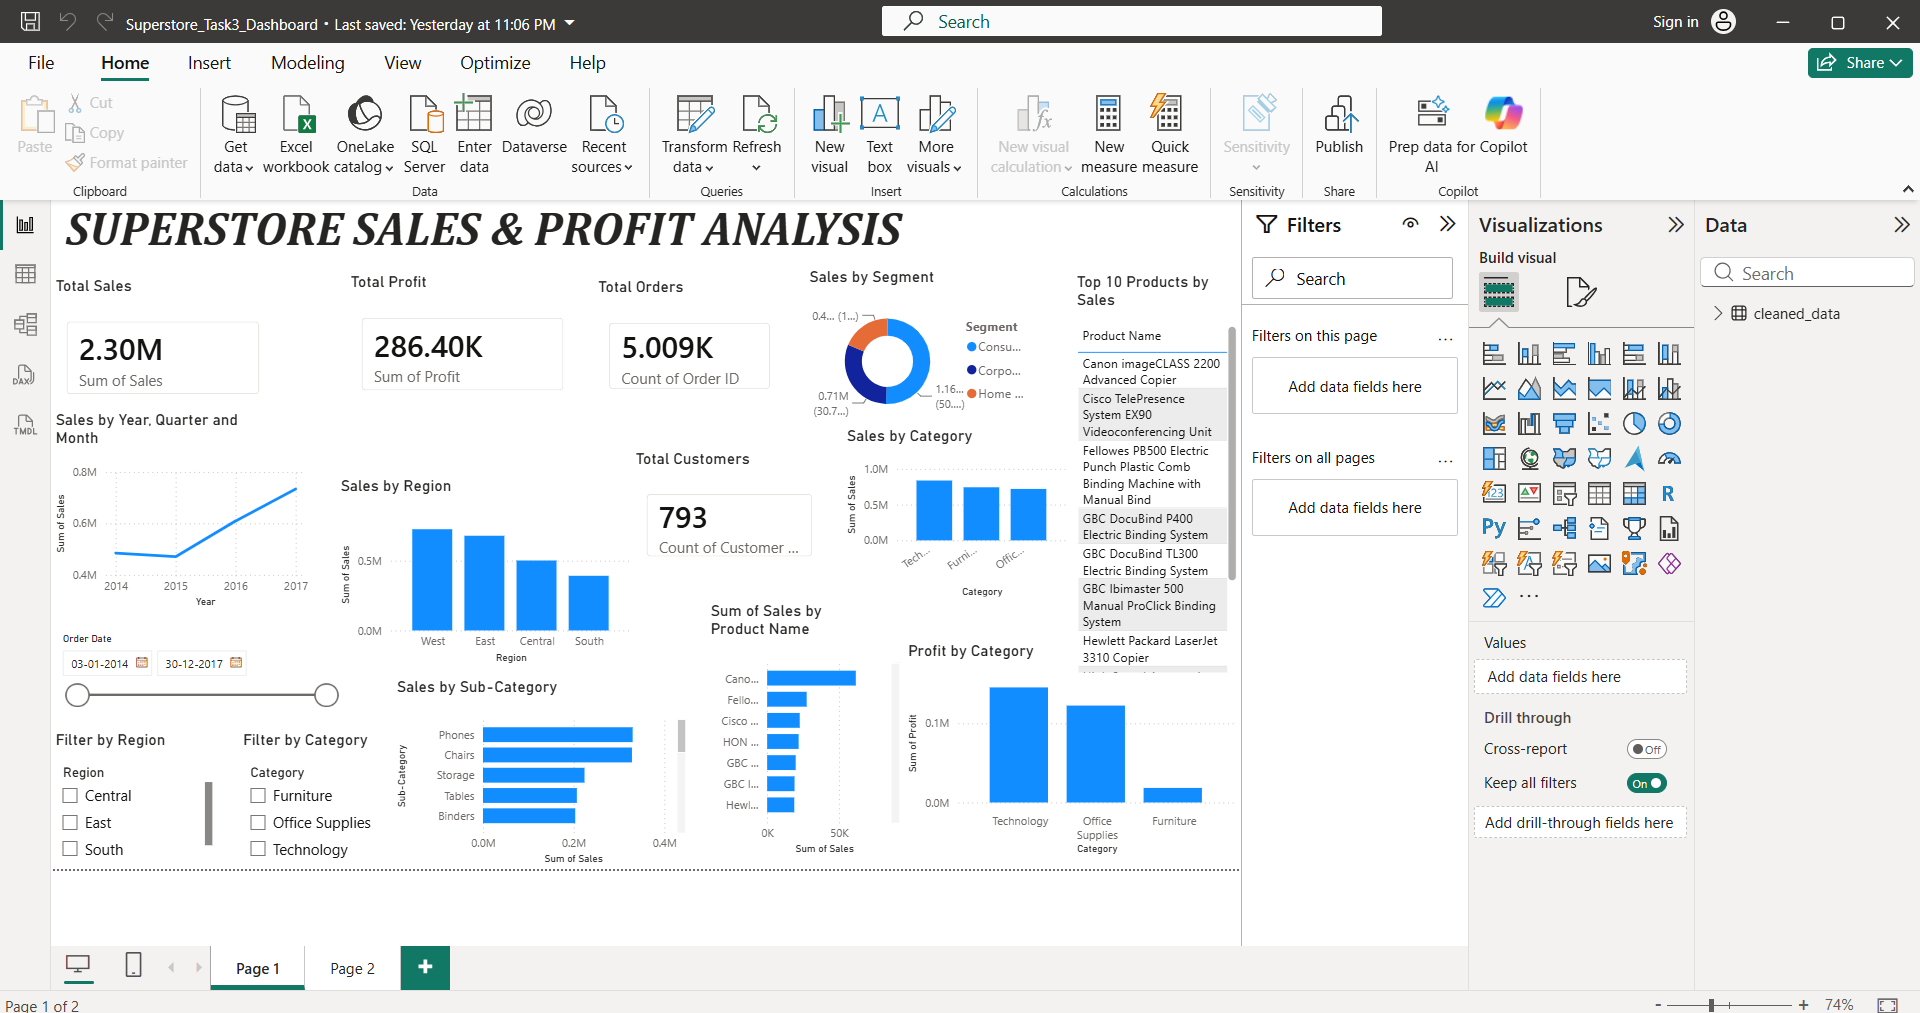

The dashboard page shown, as its layout file describes it:
{"tool":"powerbi","page":{"name":"Page 1","canvas":[1280,720],"ordinal":0},"visuals":[{"type":"cardVisual","title":"Total Sales","fields":{"Data":["Sum(cleaned_data.Sales)"]},"box":[0,81.4,241.4,144.3],"z":0},{"type":"cardVisual","title":"Total Profit","fields":{"Data":["Sum(cleaned_data.Profit)"]},"box":[317.1,78.6,251.4,144.3],"z":1000},{"type":"lineChart","title":"Sales by Year, Quarter and Month","fields":{"Y":["Sum(cleaned_data.Sales)"],"Category":["cleaned_data.Order Date.Variation.Date Hierarchy.Year","cleaned_data.Order Date.Variation.Date Hierarchy.Month"]},"box":[0,225.7,281.4,217.1],"z":2000},{"type":"clusteredColumnChart","title":"Sales by Region","fields":{"Category":["cleaned_data.Region"],"Y":["Sum(cleaned_data.Sales)"]},"box":[307.1,297.1,322.9,205.7],"z":3000},{"type":"clusteredColumnChart","title":" Sales by Category","fields":{"Category":["cleaned_data.Category"],"Y":["Sum(cleaned_data.Sales)"]},"box":[851.4,242.9,247.1,188.6],"z":4000},{"type":"clusteredColumnChart","title":"Profit by Category","fields":{"Category":["cleaned_data.Category"],"Y":["Sum(cleaned_data.Profit)"]},"box":[917.1,474.3,362.9,234.3],"z":5000},{"type":"clusteredBarChart","fields":{"Y":["Sum(cleaned_data.Sales)"],"Category":["cleaned_data.Product Name"]},"box":[704.3,431.4,212.9,277.1],"z":6000},{"type":"tableEx","title":"Top 10 Products by Sales","fields":{"Values":["cleaned_data.Product Name"]},"box":[1098.6,78.6,181.4,435.7],"z":7000},{"type":"clusteredBarChart","title":"Sales by Sub-Category","fields":{"Category":["cleaned_data.Sub-Category"],"Y":["Sum(cleaned_data.Sales)"]},"box":[367.1,514.3,320,205.7],"z":8000},{"type":"slicer","fields":{"Values":["cleaned_data.Order Date"]},"box":[0,460,317.4,107.6],"z":9000},{"type":"slicer","title":"Filter by Region","fields":{"Values":["cleaned_data.Region"]},"box":[0,570,178.6,150],"z":9001},{"type":"slicer","title":"Filter by Category","fields":{"Values":["cleaned_data.Category"]},"box":[201.4,570,161.4,150],"z":9002},{"type":"textbox","title":"SUPERSTORE SALES & PROFIT ANALYSIS","box":[11.4,0,1002.9,80],"z":9003},{"type":"cardVisual","title":"Total Orders","fields":{"Data":["Count(cleaned_data.Order ID)"]},"box":[584.3,82.9,207.1,137.1],"z":9004},{"type":"cardVisual","title":"Total Customers","fields":{"Data":["Count(cleaned_data.Customer ID)"]},"box":[624.3,267.1,212.9,132.9],"z":9005},{"type":"donutChart","title":" Sales by Segment","fields":{"Category":["cleaned_data.Segment"],"Y":["Sum(cleaned_data.Sales)"]},"box":[811.4,72.9,251.4,170],"z":9006}]}

Visuals, with their boxes on the page's 1280x720 design canvas (x1, y1, x2, y2). These are canvas units, not pixel positions in the 1920x1013 screenshot, which may show the page scaled, cropped or inside an application window:
"Total Sales" cardVisual: x1=0 y1=81 x2=241 y2=226
"Total Profit" cardVisual: x1=317 y1=79 x2=568 y2=223
"Sales by Year, Quarter and Month" lineChart: x1=0 y1=226 x2=281 y2=443
"Sales by Region" clusteredColumnChart: x1=307 y1=297 x2=630 y2=503
" Sales by Category" clusteredColumnChart: x1=851 y1=243 x2=1098 y2=432
"Profit by Category" clusteredColumnChart: x1=917 y1=474 x2=1280 y2=709
clusteredBarChart - Sum(cleaned_data.Sales) x cleaned_data.Product Name: x1=704 y1=431 x2=917 y2=708
"Top 10 Products by Sales" tableEx: x1=1099 y1=79 x2=1280 y2=514
"Sales by Sub-Category" clusteredBarChart: x1=367 y1=514 x2=687 y2=720
slicer - cleaned_data.Order Date: x1=0 y1=460 x2=317 y2=568
"Filter by Region" slicer: x1=0 y1=570 x2=179 y2=720
"Filter by Category" slicer: x1=201 y1=570 x2=363 y2=720
"SUPERSTORE SALES & PROFIT ANALYSIS" textbox: x1=11 y1=0 x2=1014 y2=80
"Total Orders" cardVisual: x1=584 y1=83 x2=791 y2=220
"Total Customers" cardVisual: x1=624 y1=267 x2=837 y2=400
" Sales by Segment" donutChart: x1=811 y1=73 x2=1063 y2=243
